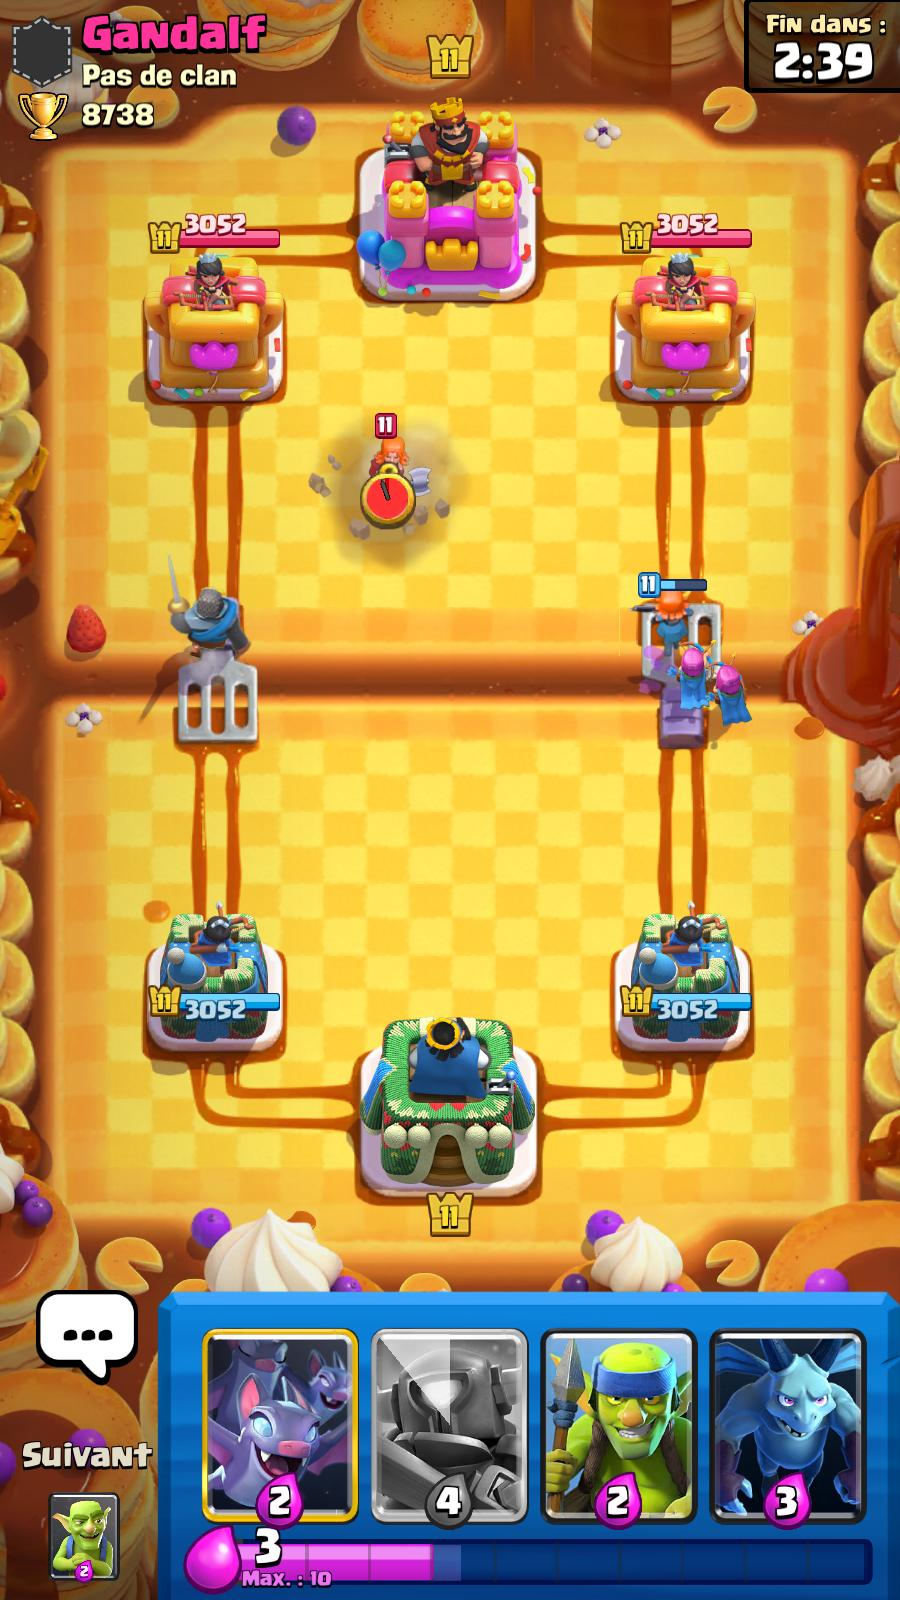archere: (670, 629, 720, 718), (714, 659, 759, 749)
chevalier: (162, 551, 259, 682)
valkyrie: (619, 566, 718, 664), (357, 423, 438, 519)
